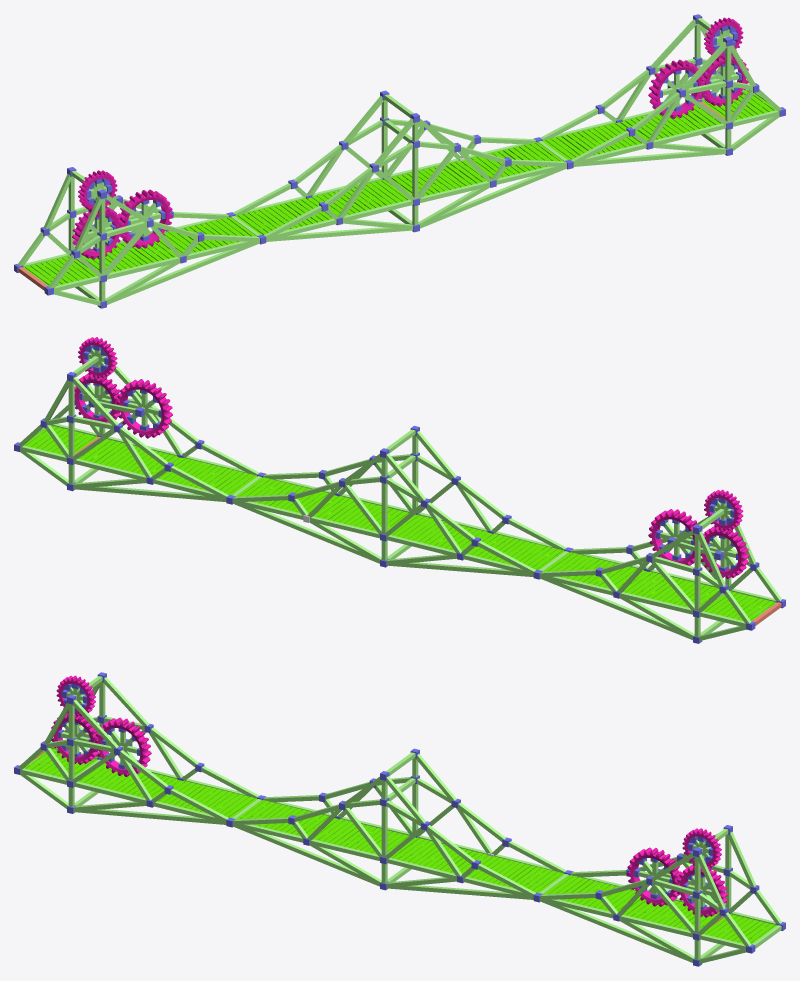
Rendered from Bridge_Texturing.fbx.
The picture shows the model from 3 angles, top to bottom: view 1: azimuth 30°, elevation 25°; view 2: azimuth 150°, elevation 25°; view 3: azimuth 330°, elevation 25°; orthographic projection.
Parts seen in each view (by area): view 1: Bridge_Middle, Bridge_Start, Bridge_End; view 2: Bridge_Middle, Bridge_End, Bridge_Start; view 3: Bridge_Middle, Bridge_Start, Bridge_End.
Part boxes in pixels (x1,y1,x2,y2): Bridge_Middle: [233, 90, 573, 241]; Bridge_Start: [14, 167, 266, 308]; Bridge_End: [540, 14, 785, 166]; Bridge_Middle: [226, 425, 566, 576]; Bridge_End: [14, 337, 259, 501]; Bridge_Start: [533, 489, 785, 643]; Bridge_Middle: [233, 748, 573, 902]; Bridge_Start: [14, 672, 266, 827]; Bridge_End: [540, 825, 785, 966].
Size of the model in its own units: 2779 by 473 by 222.
